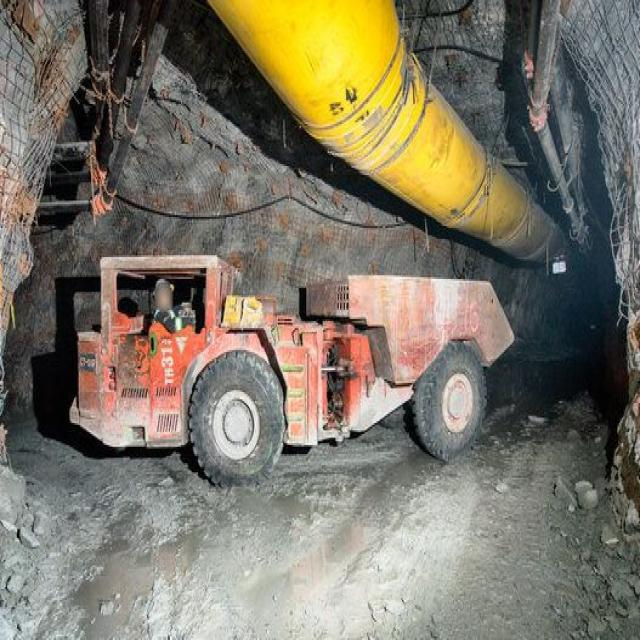dump_truck: (70, 210, 544, 483)
